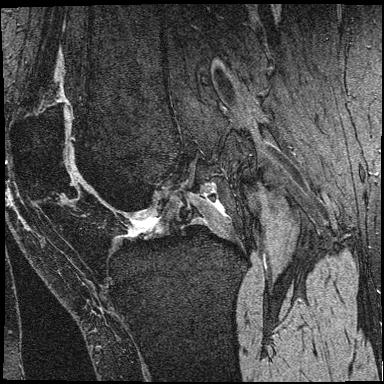SagKneeJointArea: (10, 102, 253, 311)
